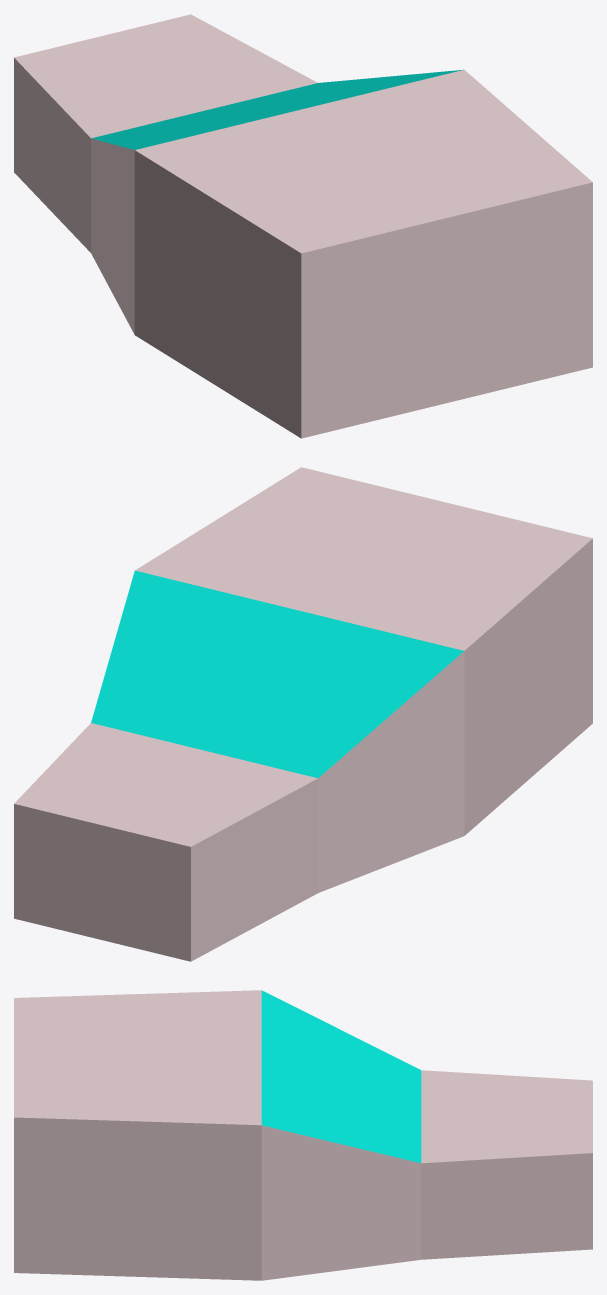
The model's file is buggy2_chassis.glb.
The picture shows the model from 3 angles, top to bottom: view 1: azimuth 30°, elevation 25°; view 2: azimuth 150°, elevation 25°; view 3: azimuth 270°, elevation 25°; orthographic projection. The views are drawn at different scales.
Parts seen in each view (by area): view 1: Cube; view 2: Cube; view 3: Cube.
Boxes of the visible parts, x1,y1,x2,y2 form: Cube: (14, 14, 592, 438); Cube: (14, 467, 592, 961); Cube: (14, 990, 592, 1280).
Size of the model in its own units: 3.73 by 2 by 6.75.
